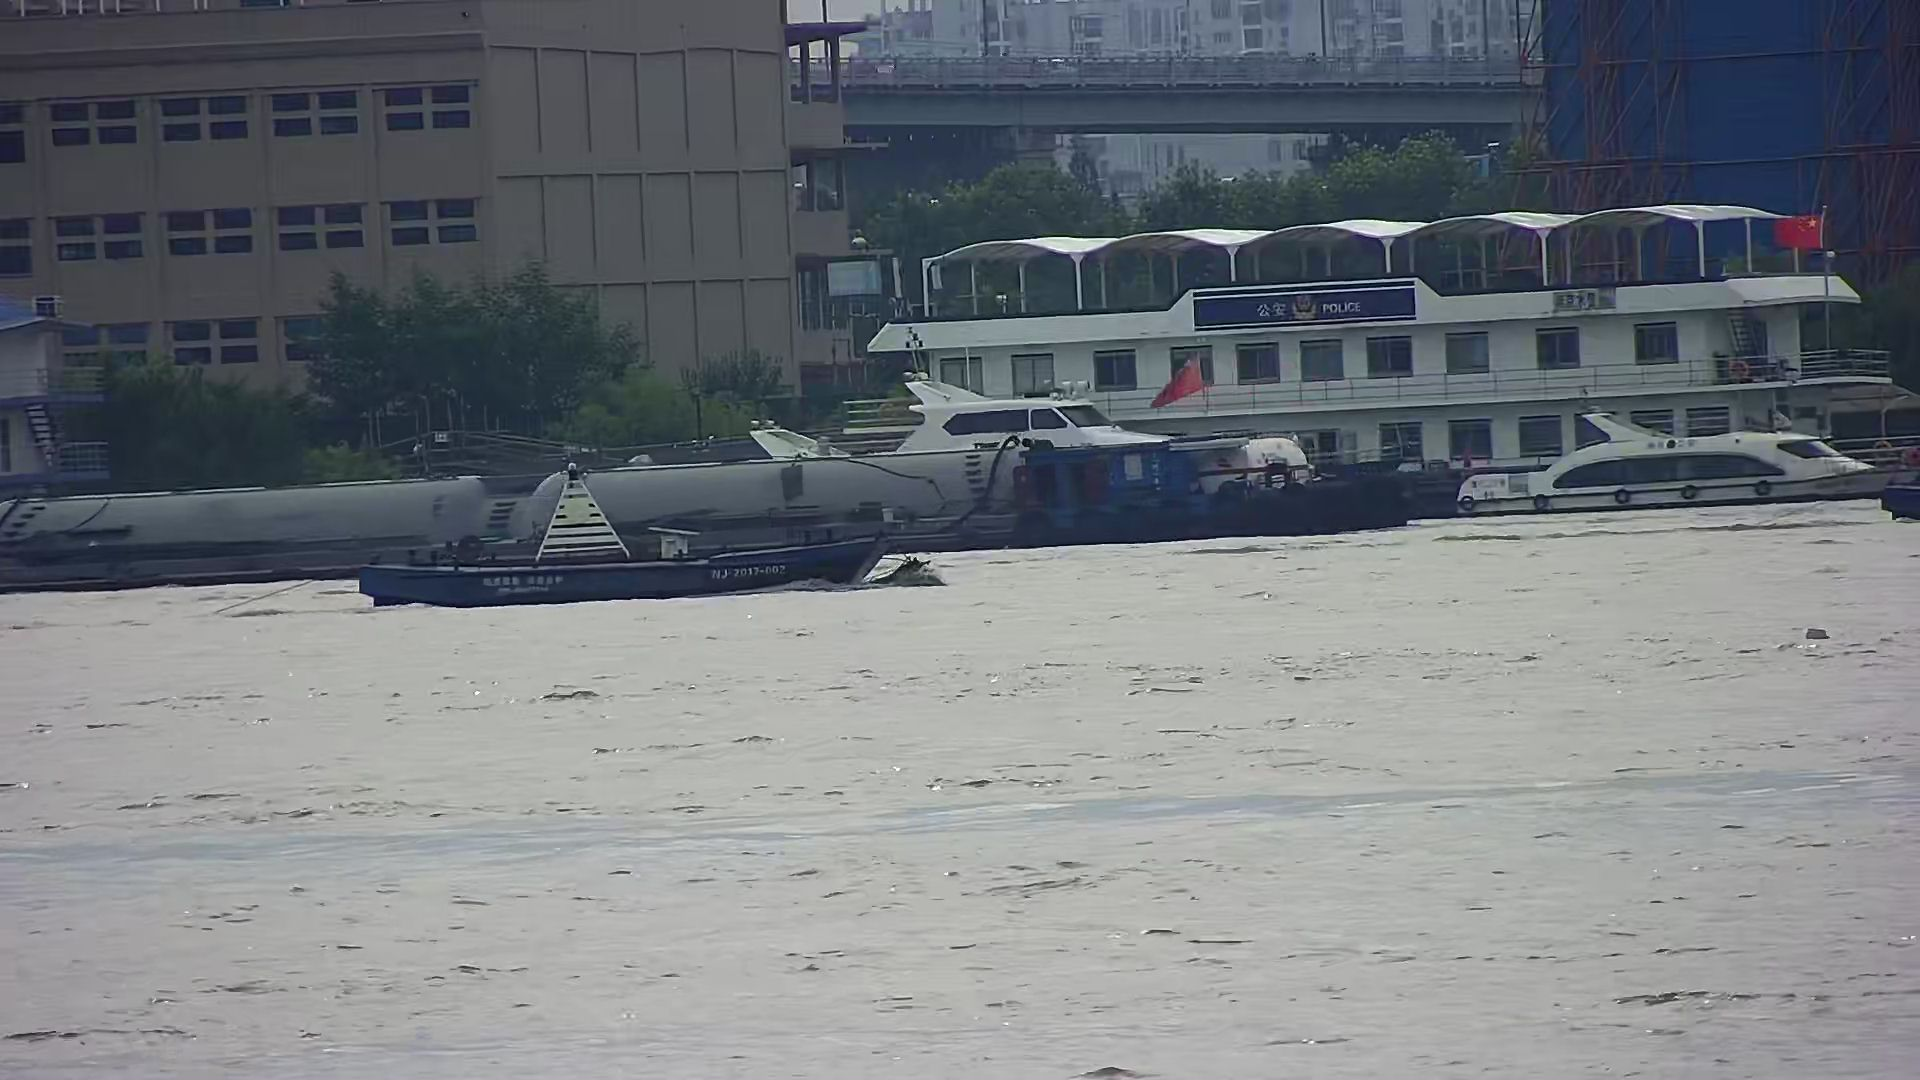boat: (360, 462, 889, 607), (1456, 411, 1920, 513)
ship: (1, 436, 1394, 593), (754, 378, 1312, 496)
